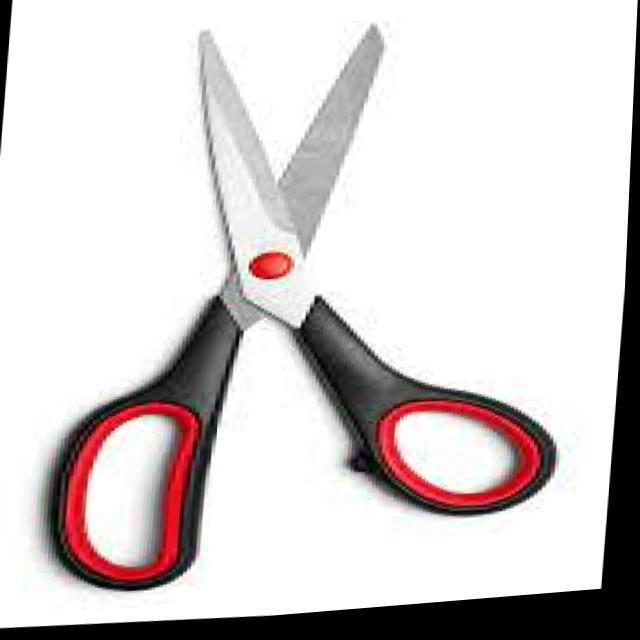tesoura: (118, 19, 572, 568)
